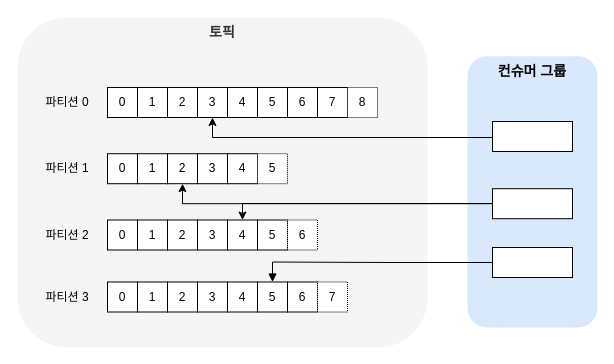
This 614x364 diagram has some shape labels left out. Each missing label, with the centre of its shape:
컨슈머 0: the point at 532,136
컨슈머 1: the point at 532,203
컨슈머 2: the point at 532,262
